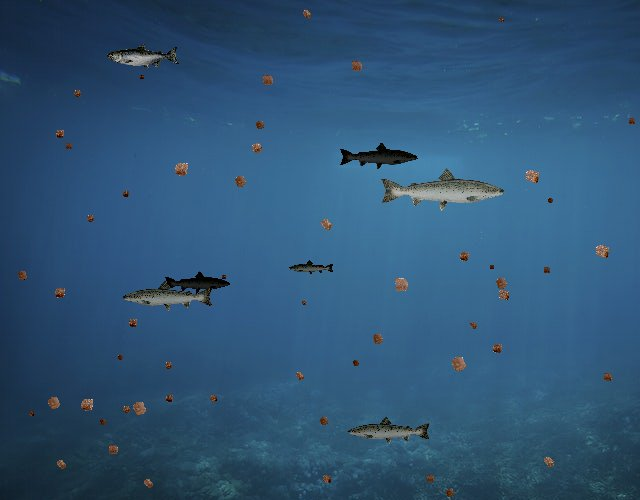Fish: (378, 166, 507, 212), (121, 280, 215, 314), (346, 415, 432, 446), (338, 142, 419, 171), (107, 43, 180, 70), (163, 271, 231, 295), (288, 260, 335, 277)
Pellet: (167, 155, 195, 183), (314, 212, 338, 236), (228, 169, 252, 193), (245, 137, 268, 160), (12, 266, 33, 287), (82, 210, 98, 226), (544, 194, 557, 207), (25, 407, 37, 419)
